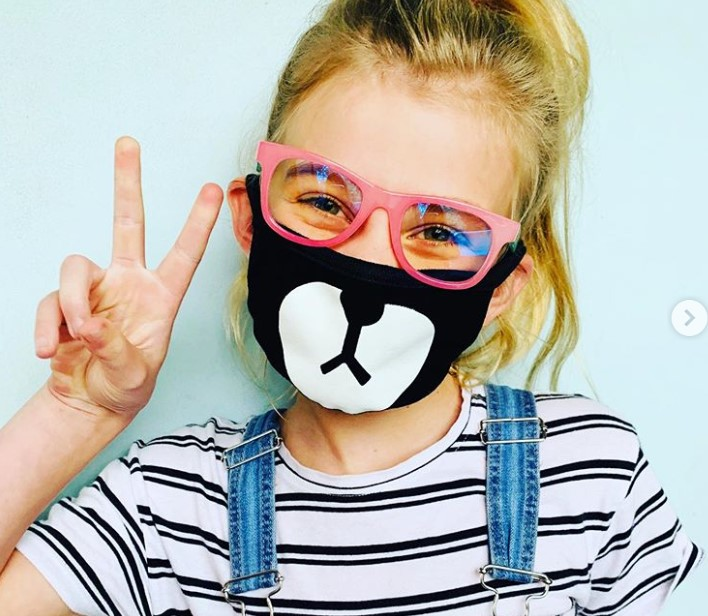face_with_mask: (233, 21, 569, 414)
